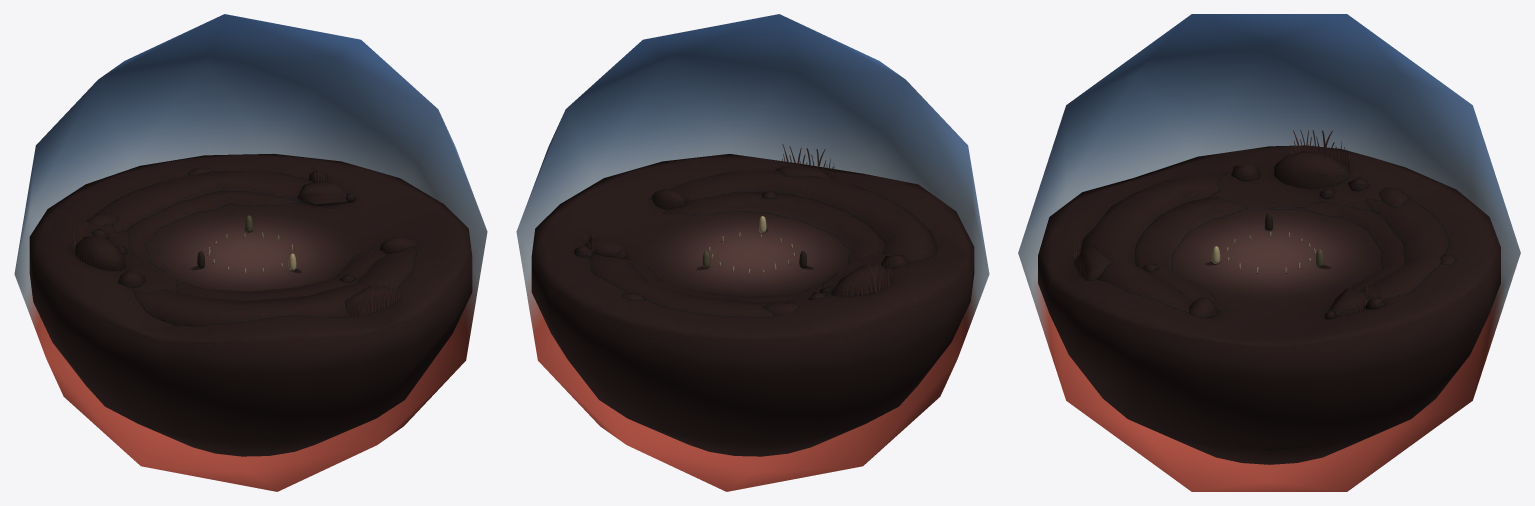
3 views of the same model, side by side, from view 1: azimuth 30°, elevation 25°; view 2: azimuth 150°, elevation 25°; view 3: azimuth 270°, elevation 25° (orthographic). The views are drawn at different scales.
Visible parts, largest first — view 1: ground.005, envirosphere.003, GRASS.005; view 2: ground.005, envirosphere.003, GRASS.004; view 3: ground.005, envirosphere.003, GRASS.004.
Boxes of the visible parts, x1,y1,x2,y2 form: ground.005: [29, 153, 472, 456]; envirosphere.003: [14, 14, 487, 491]; GRASS.005: [348, 273, 401, 316]; ground.005: [531, 154, 974, 456]; envirosphere.003: [516, 14, 989, 491]; GRASS.004: [843, 261, 891, 296]; ground.005: [1038, 145, 1500, 464]; envirosphere.003: [1018, 14, 1520, 491]; GRASS.004: [1290, 130, 1349, 170].
Size of the model in its own units: 13.02 by 13.69 by 13.69.
7 materials, 3 textured.
